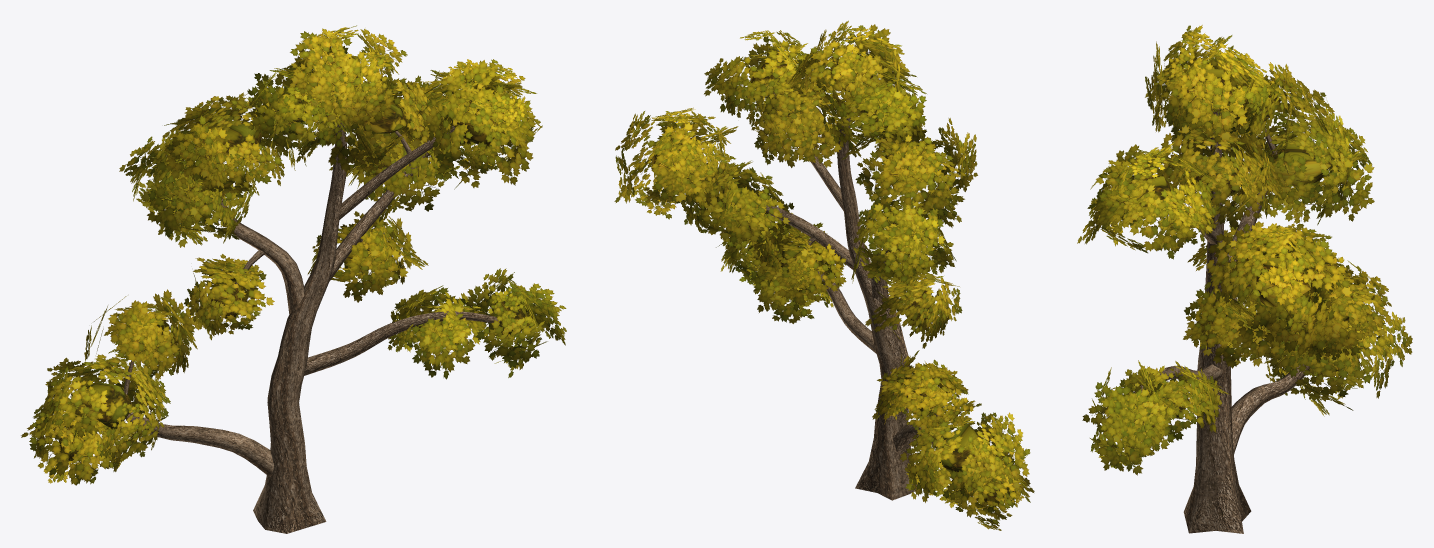
Rendered from mm8_deco_tree21.glb.
3 renders of one model, left to right at view 1: azimuth 30°, elevation 25°; view 2: azimuth 150°, elevation 25°; view 3: azimuth 270°, elevation 25°, orthographic. The views are drawn at different scales.
Parts seen in each view (by area): view 1: Tree; view 2: Tree; view 3: Tree.
Boxes of the visible parts, x1,y1,x2,y2 form: Tree: (21, 25, 566, 533); Tree: (614, 20, 1034, 530); Tree: (1077, 25, 1412, 533).
Size of the model in its own units: 6.49 by 6.19 by 3.81.
3 materials, 3 textured.
